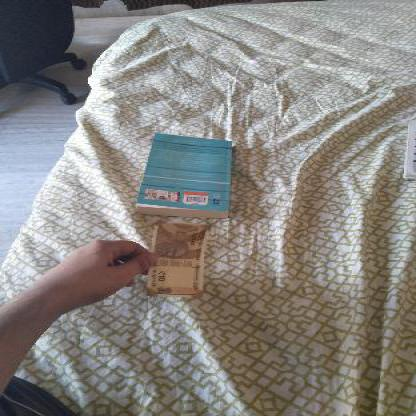New10Front: (150, 221, 202, 295)
